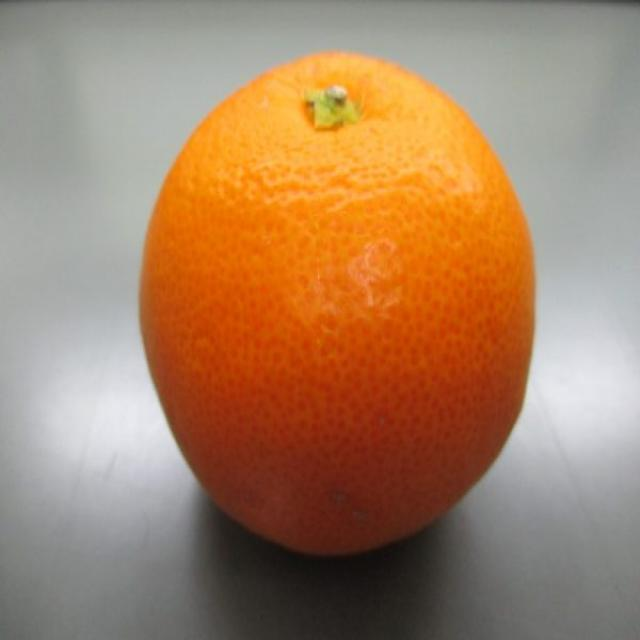Orange: (138, 45, 534, 555)
